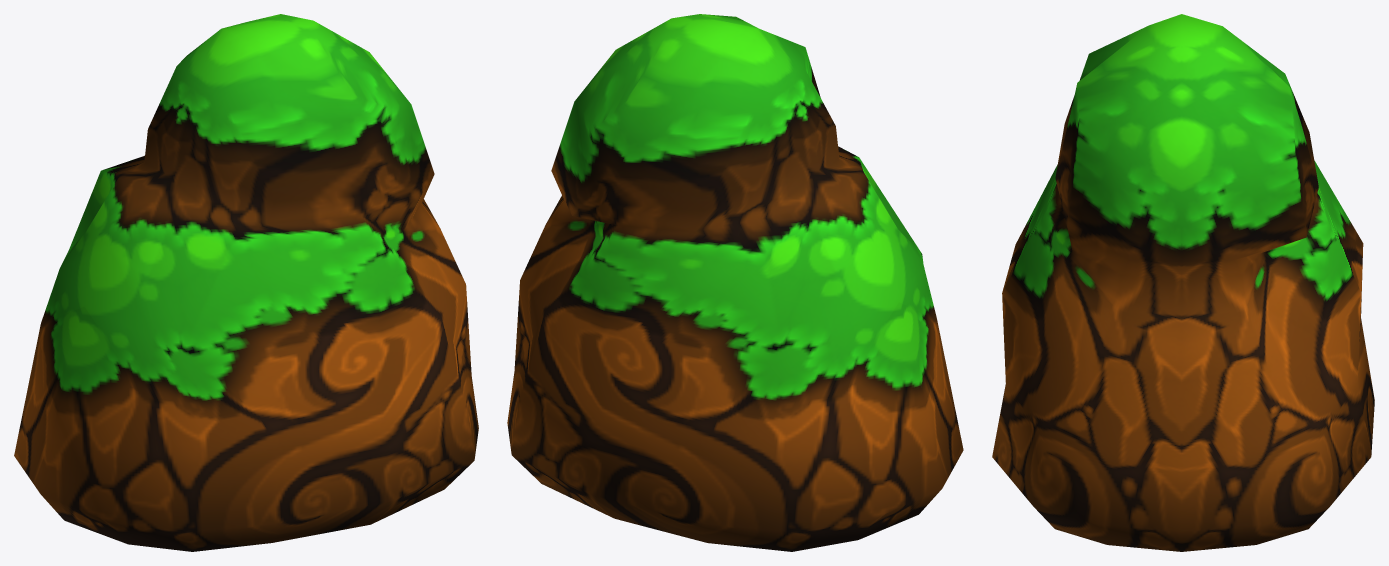
Rendered from Green_Rock_02.FBX.
3 views of the same model, side by side, from view 1: azimuth 30°, elevation 25°; view 2: azimuth 150°, elevation 25°; view 3: azimuth 270°, elevation 25° (orthographic).
Visible parts, largest first — view 1: Green_Rock_02; view 2: Green_Rock_02; view 3: Green_Rock_02.
Boxes of the visible parts, x1=… form: Green_Rock_02: x1=14, y1=14, x2=478, y2=551; Green_Rock_02: x1=507, y1=14, x2=963, y2=551; Green_Rock_02: x1=992, y1=14, x2=1374, y2=551.
Size of the model in its own units: 349 by 360 by 281.
